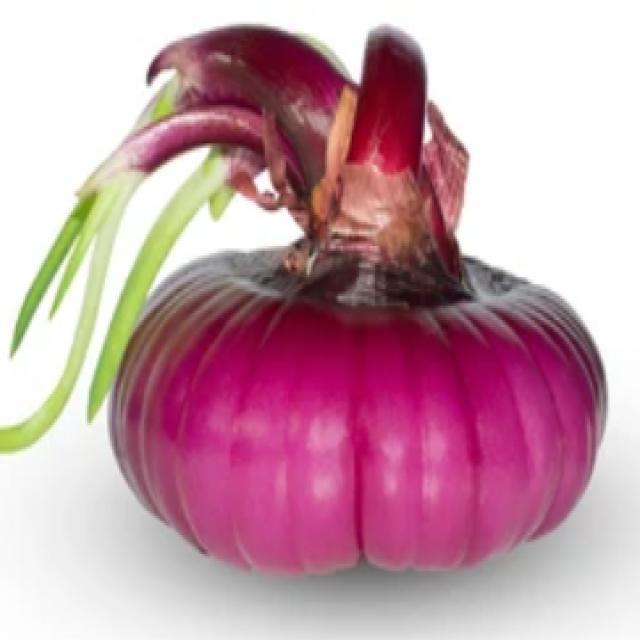sprouting: (0, 15, 474, 302)
